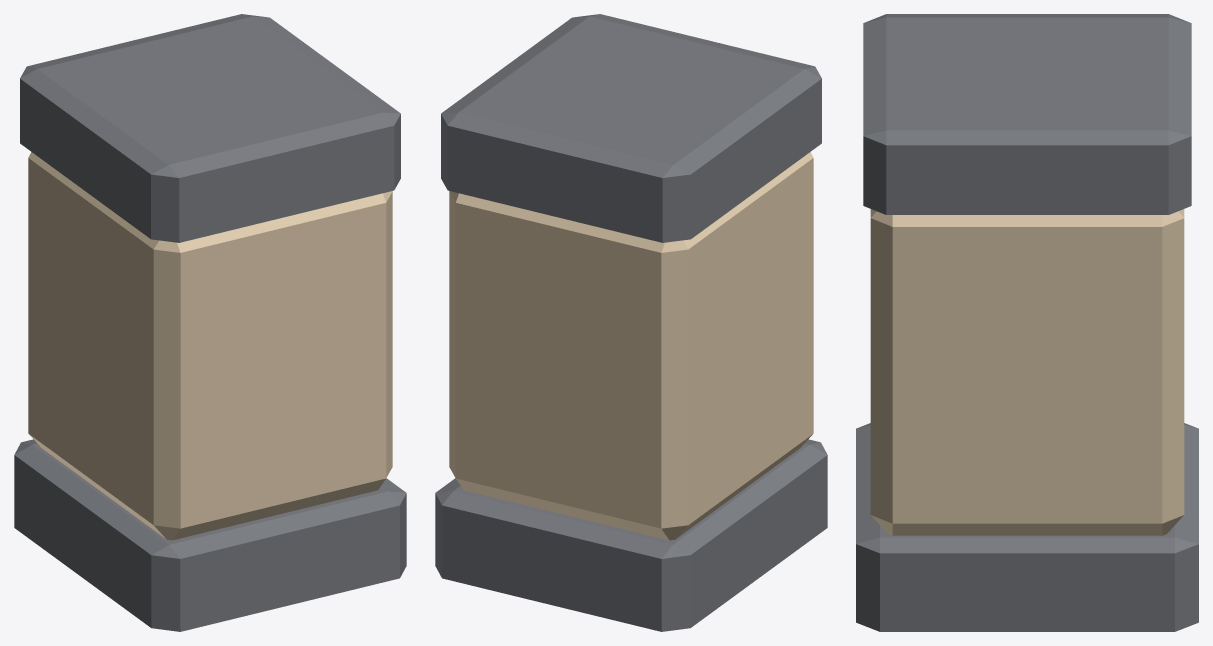
The model's file is b10_chalkboard_sandwich_a_frame.glb.
3 renders of one model, left to right at view 1: azimuth 30°, elevation 25°; view 2: azimuth 150°, elevation 25°; view 3: azimuth 270°, elevation 25°, orthographic. The views are drawn at different scales.
Parts seen in each view (by area): view 1: b10_chalkboard_sandwich_a_frame; view 2: b10_chalkboard_sandwich_a_frame; view 3: b10_chalkboard_sandwich_a_frame.
Boxes of the visible parts, box(x1,y1,x2,y2) form: b10_chalkboard_sandwich_a_frame: box(14, 14, 406, 631); b10_chalkboard_sandwich_a_frame: box(435, 14, 827, 631); b10_chalkboard_sandwich_a_frame: box(856, 14, 1198, 631).
Bounding box in the file's own units: 0.62 × 1.07 × 0.67.
